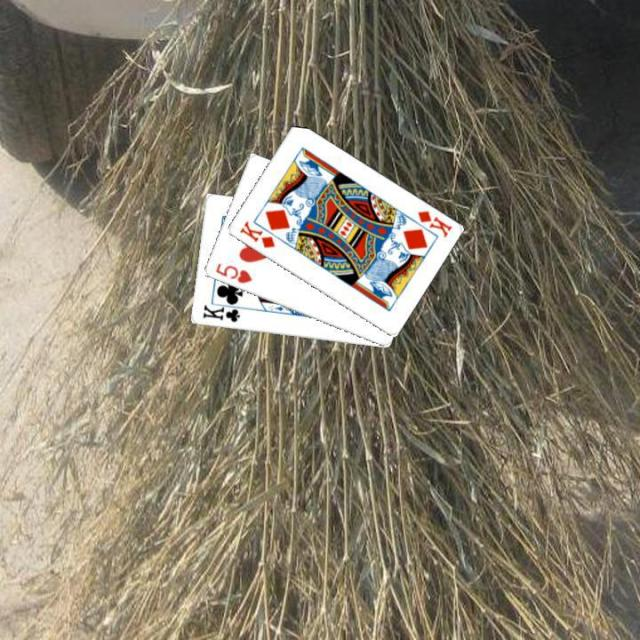5H: (212, 259, 254, 285)
KC: (199, 298, 246, 324)
KD: (236, 217, 276, 250), (414, 206, 454, 239)
